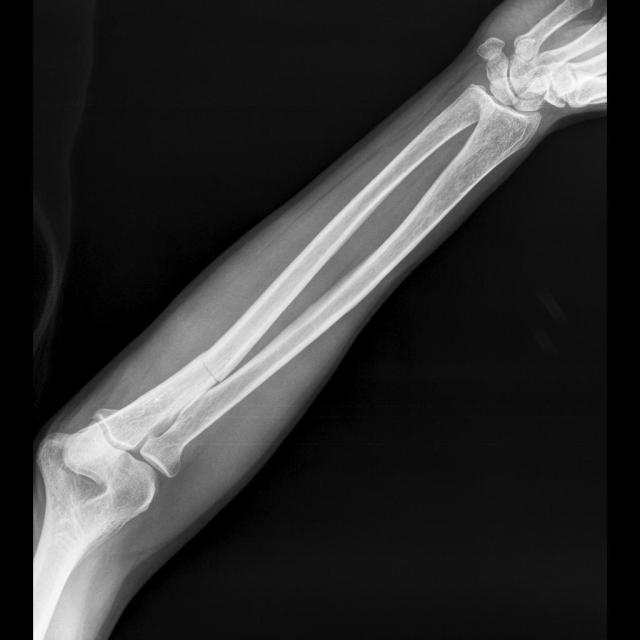fracture: (199, 350, 221, 386)
